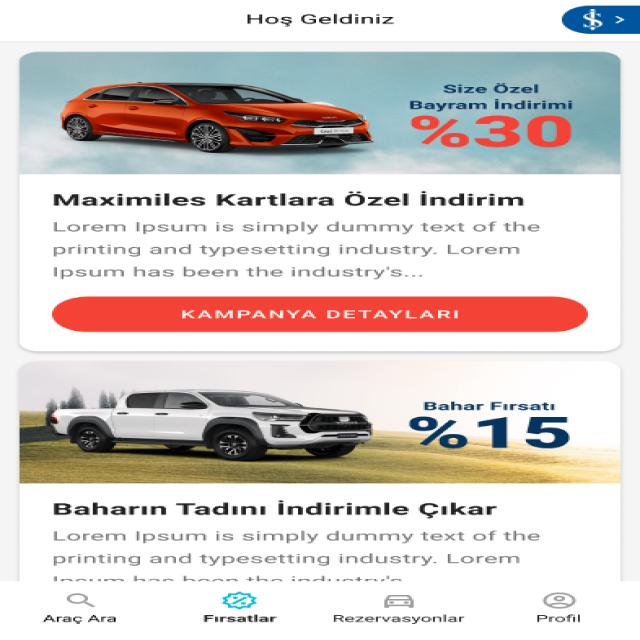QLabel: (44, 216, 542, 282), (44, 528, 542, 582), (46, 189, 526, 210), (48, 501, 502, 518), (174, 307, 465, 322), (238, 10, 401, 27), (328, 613, 466, 624), (200, 614, 280, 624), (42, 614, 116, 624), (532, 613, 584, 624)
VAppBar: (0, 0, 640, 40)
VBottomNavigation: (0, 582, 640, 640)
VBtn: (52, 296, 588, 332), (321, 586, 486, 635), (497, 586, 623, 636), (15, 586, 147, 633), (176, 586, 304, 634)
VCard: (20, 53, 620, 352), (19, 359, 620, 583)
VIcon: (532, 590, 582, 610), (218, 591, 262, 610), (373, 592, 421, 609), (59, 592, 100, 609)
VImg: (26, 363, 615, 483), (26, 56, 616, 174), (561, 6, 640, 34)
